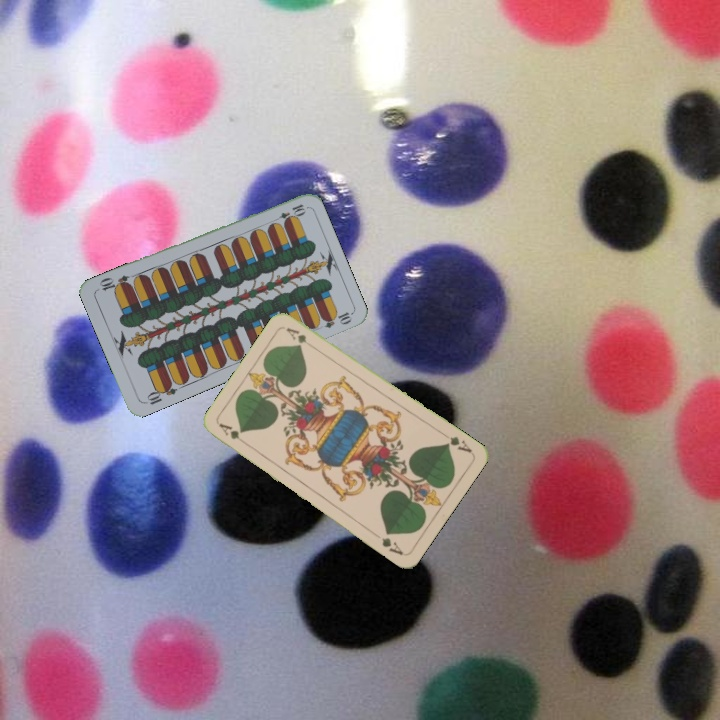E10: (140, 379, 179, 407), (269, 200, 308, 226)
GA: (215, 419, 251, 448), (438, 430, 474, 456)
